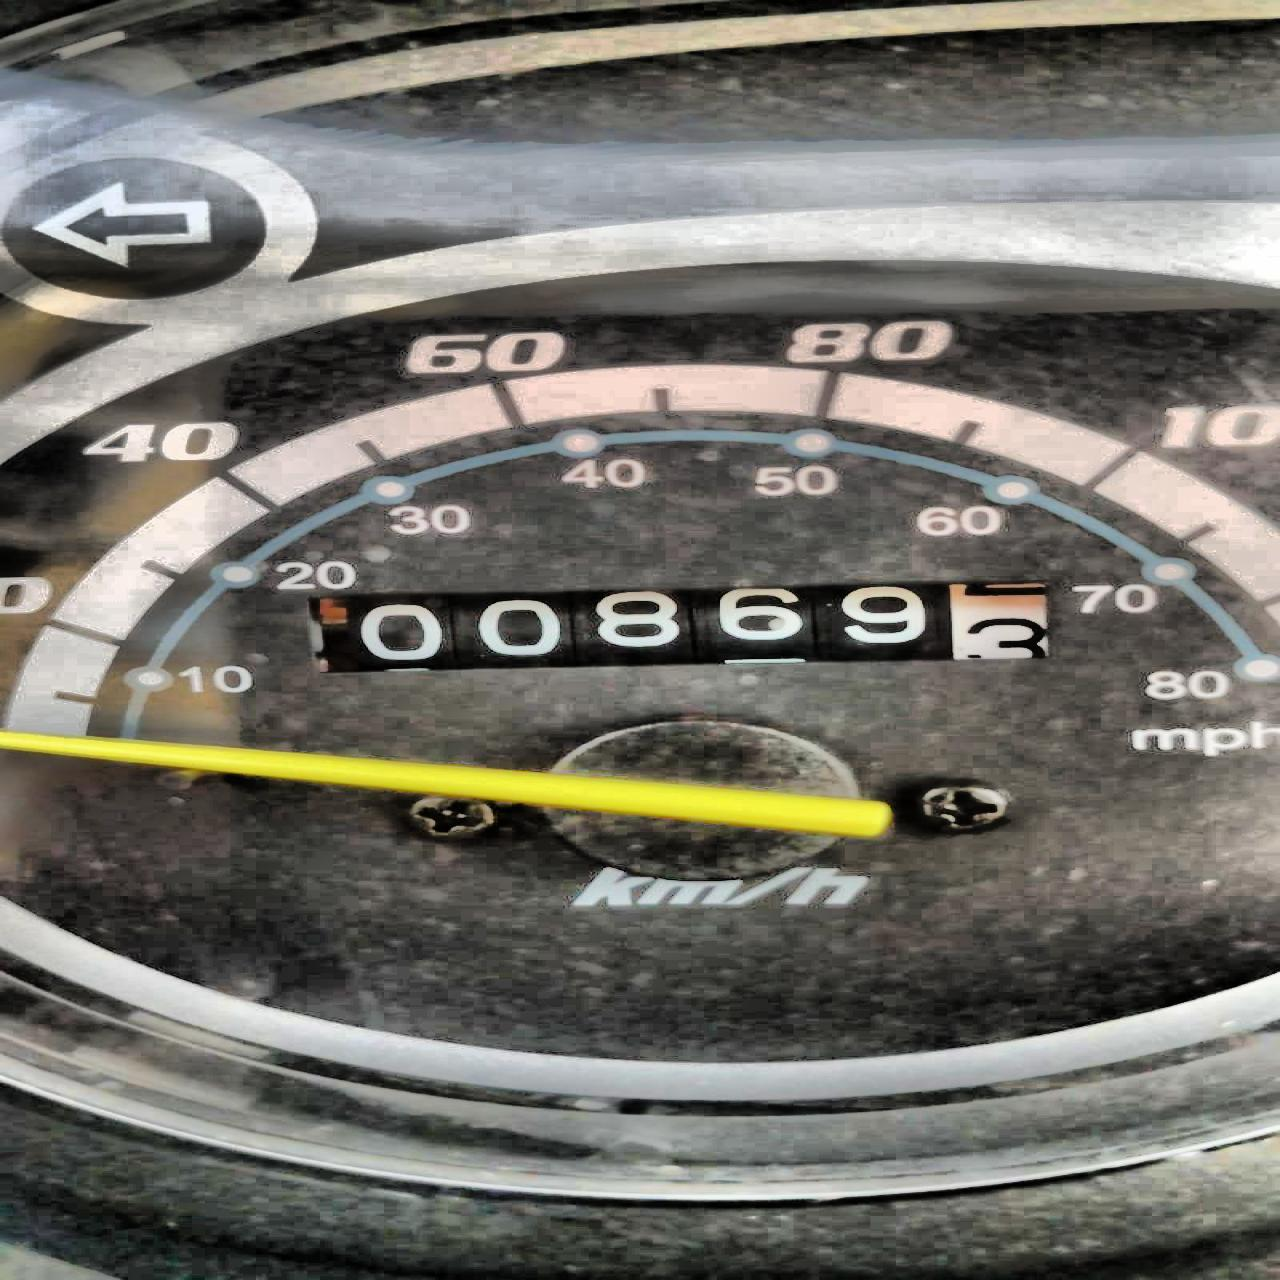0: (470, 597, 572, 660), (349, 598, 451, 661)
3: (956, 604, 1057, 669)
6: (717, 583, 808, 648)
8: (595, 586, 689, 653)
9: (829, 579, 931, 649)
odometer: (307, 579, 1084, 674)
